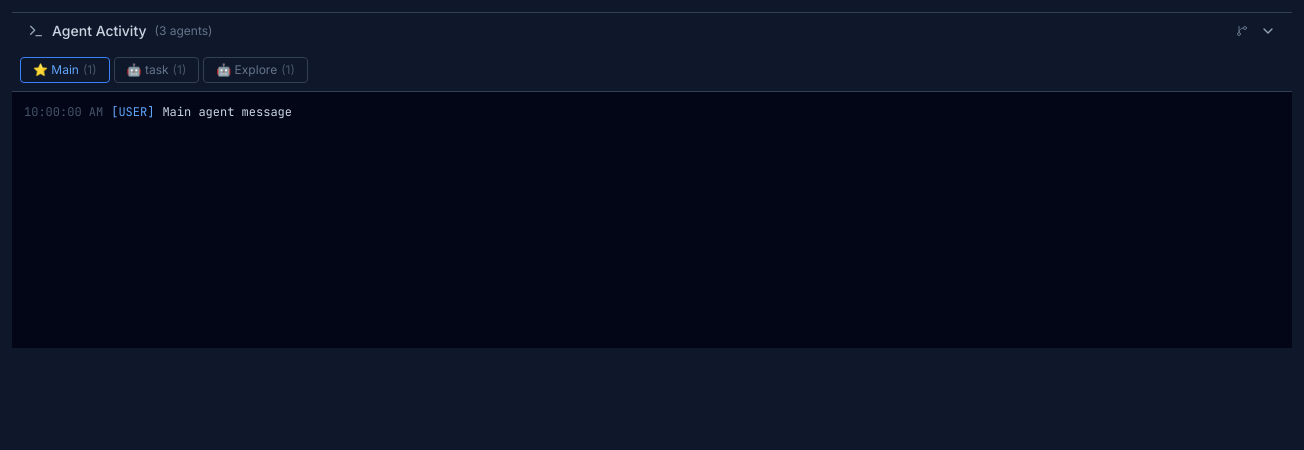
it: AgentLogsPanel › Agent hierarchy display › should display main agent in hierarchy
Click the button titled "Show hierarchy".
click(1242, 31)  # box [1232, 21, 1252, 41]
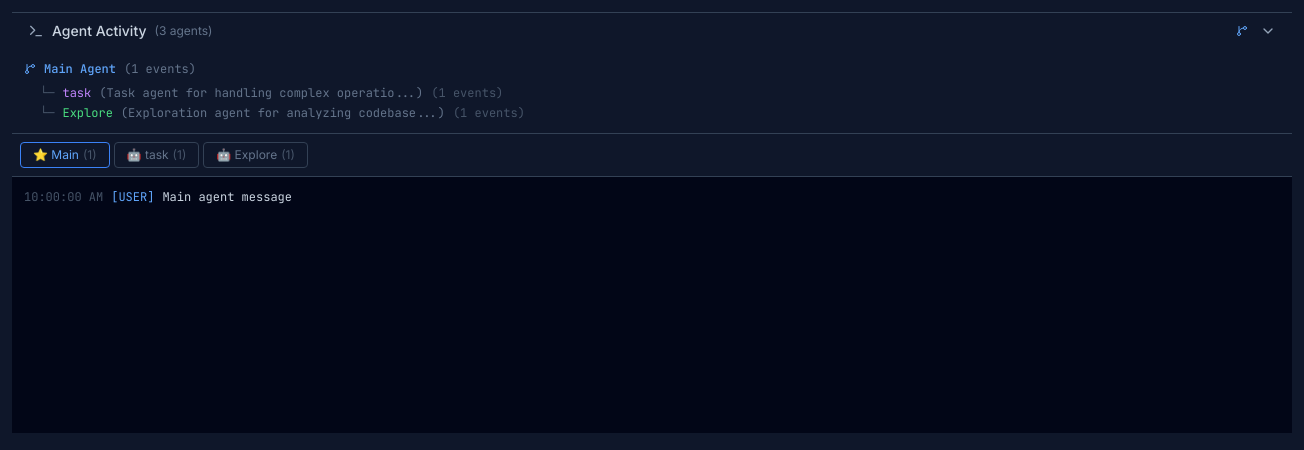
Now the text "Main Agent" is shown, box [44, 61, 116, 77]
